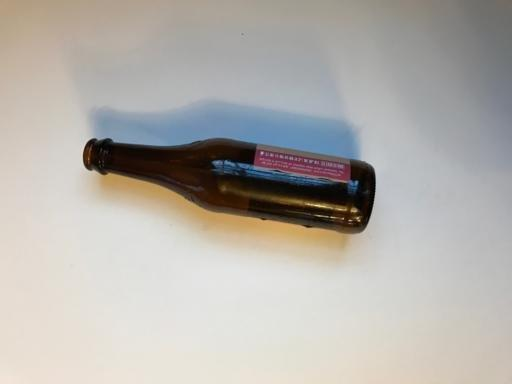botolkaca: (83, 138, 376, 234)
